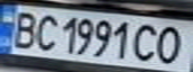1: (109, 18, 136, 60), (54, 14, 78, 54)
9: (90, 17, 115, 60), (72, 16, 96, 56)
B: (6, 8, 42, 50)
C: (130, 20, 163, 63), (30, 11, 60, 52)
O: (151, 24, 190, 65)
